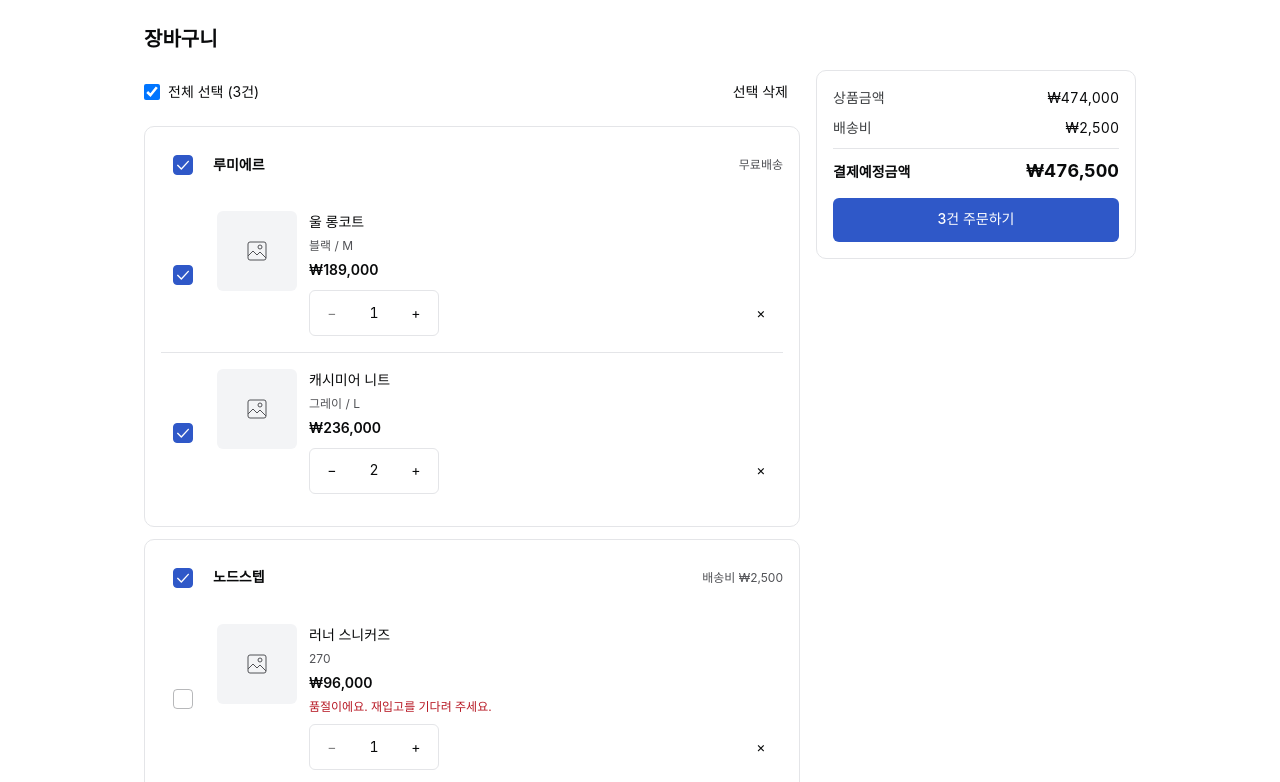
Test case: keeps cart items after a failed quantity update and provides retry
Click the button named "수량 늘리기". click: (416, 313)
box: [394, 291, 438, 335]
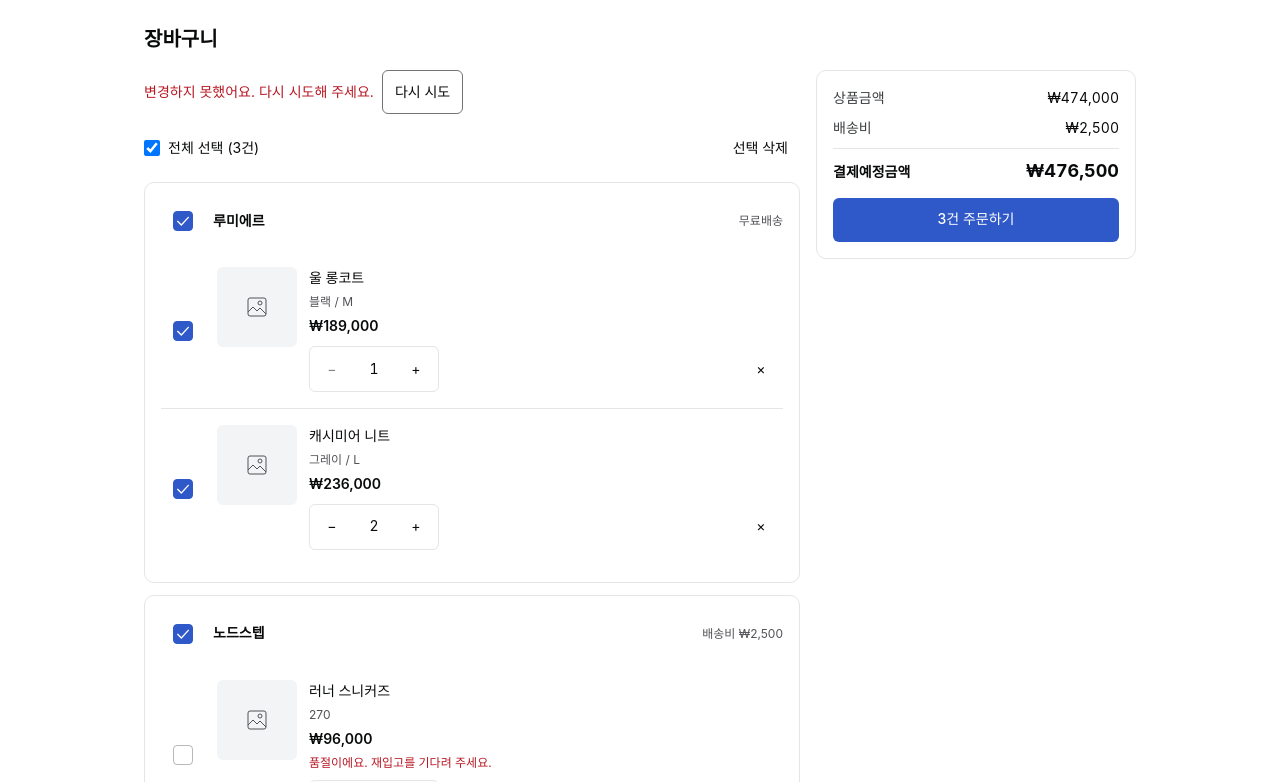
Expected: the text "변경하지 못했어요. 다시 시도해 주세요." is shown, [144, 83, 374, 100]
Click the button "다시 시도". click: (423, 92)
box: [382, 70, 463, 114]
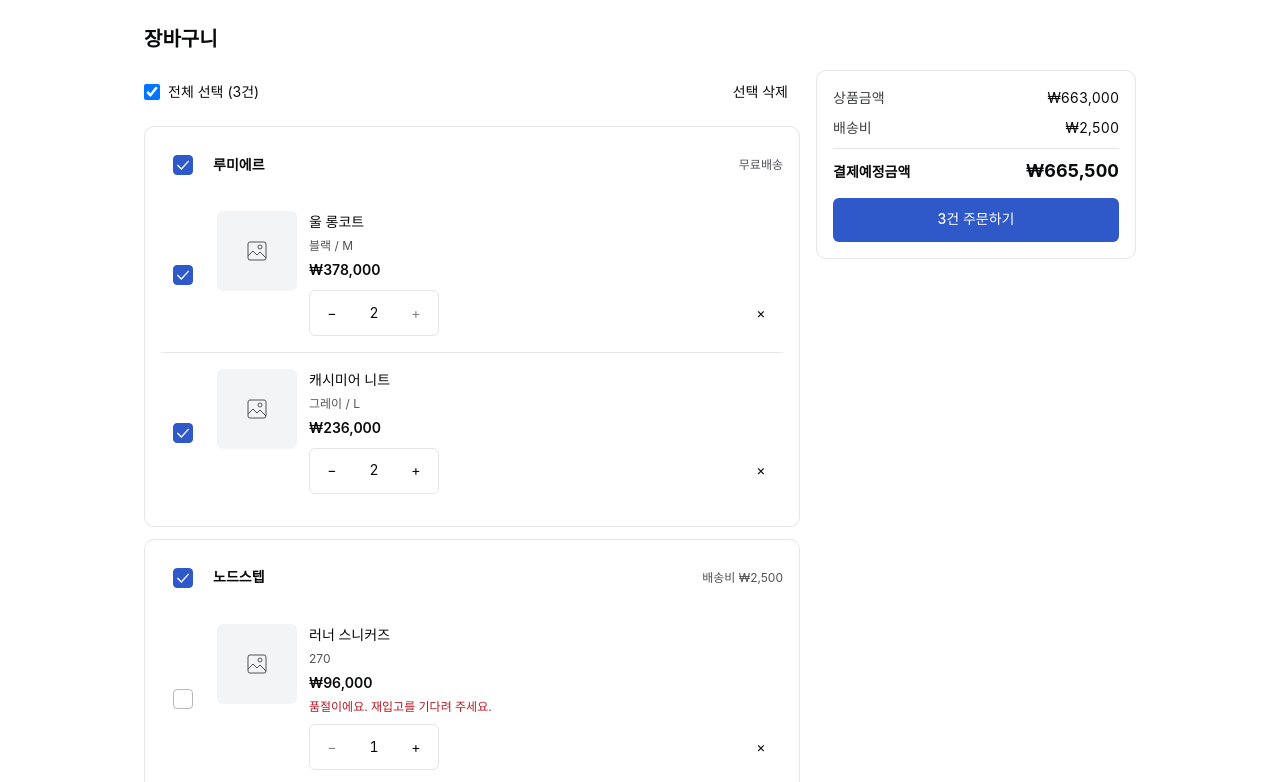
Expected: the text "변경하지 못했어요. 다시 시도해 주세요." is gone
